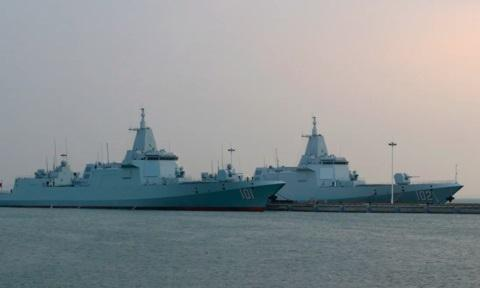MIL_Ship: (0, 106, 288, 212), (242, 114, 468, 203)
